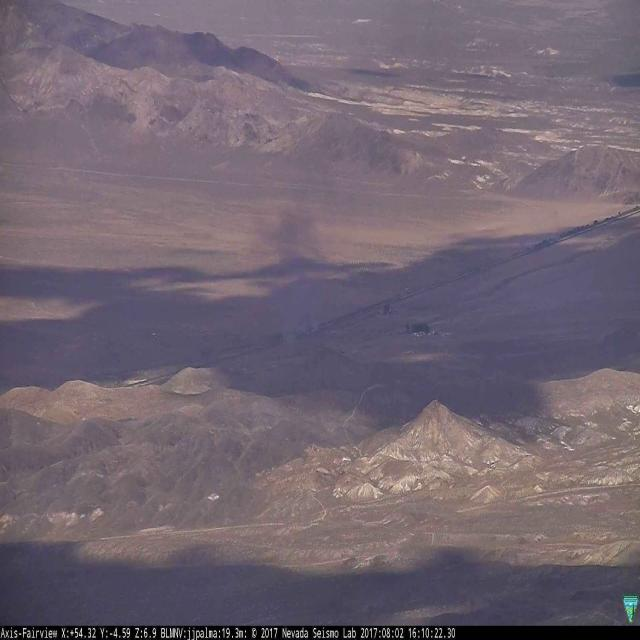smoke: (258, 199, 331, 339)
